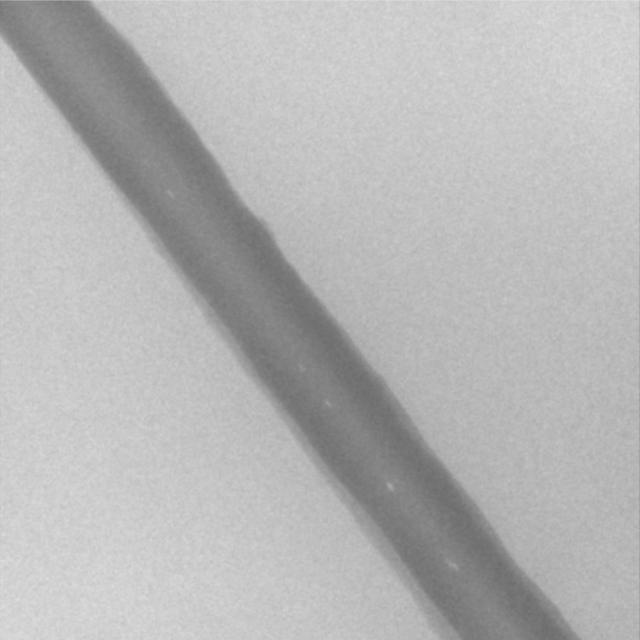air hole: (385, 482, 395, 492), (323, 398, 331, 409), (296, 365, 305, 373)
